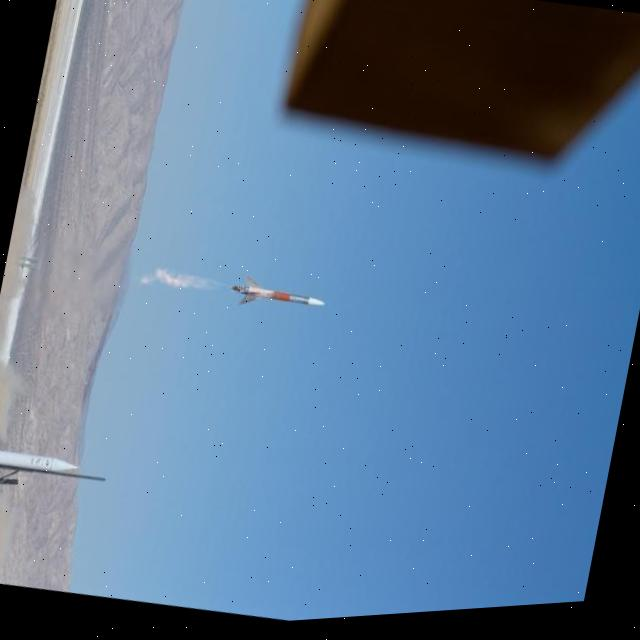missile: (229, 274, 330, 334)
